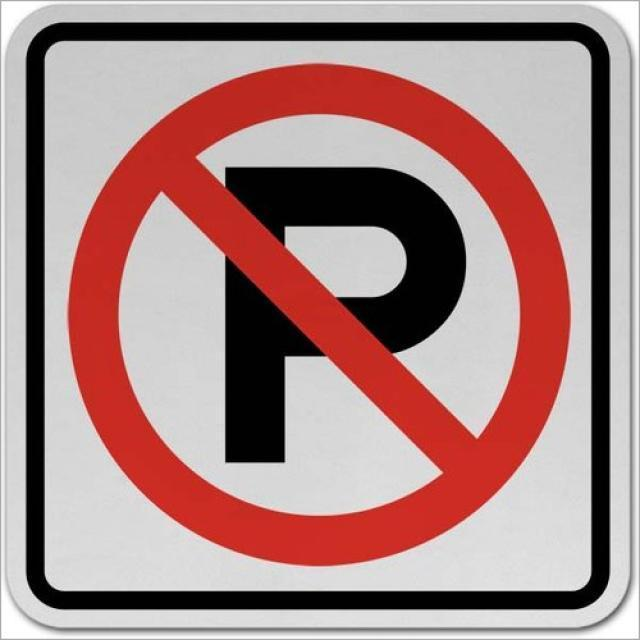no parking: (73, 61, 570, 570)
